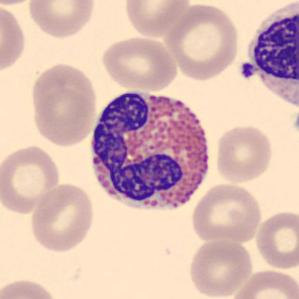Eosinophil: (84, 80, 217, 222)
Monocyte: (236, 0, 299, 119)
Platelets: (238, 60, 256, 80), (291, 107, 299, 138)
RBC: (163, 1, 242, 82), (28, 60, 99, 148), (28, 181, 96, 254), (98, 34, 180, 92), (190, 181, 264, 244), (0, 142, 62, 215), (186, 236, 255, 299), (213, 123, 275, 184), (252, 207, 299, 271), (26, 0, 97, 40), (122, 0, 192, 39), (229, 267, 299, 299), (0, 2, 28, 75), (0, 275, 60, 299), (0, 0, 43, 7)
